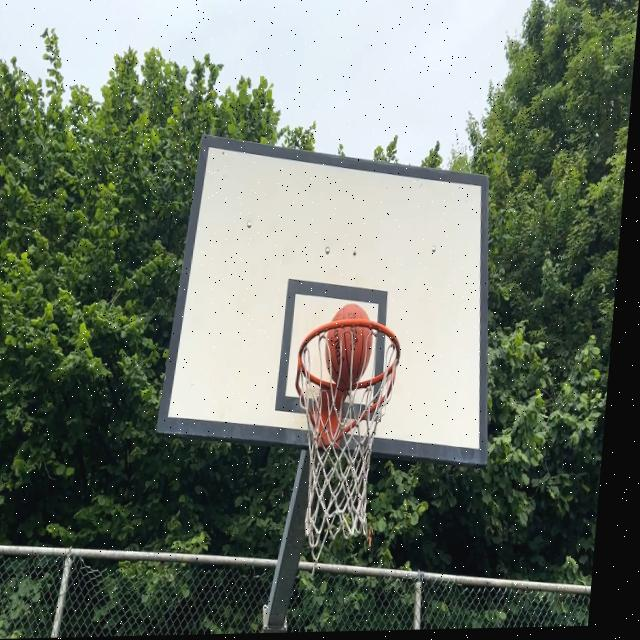Basketball: (323, 303, 375, 390)
